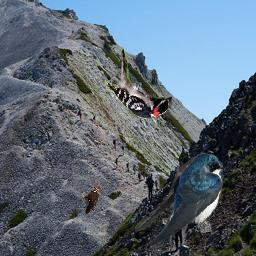Swallow: (135, 153, 223, 248)
Woodpecker: (104, 45, 172, 119), (80, 186, 103, 215)
